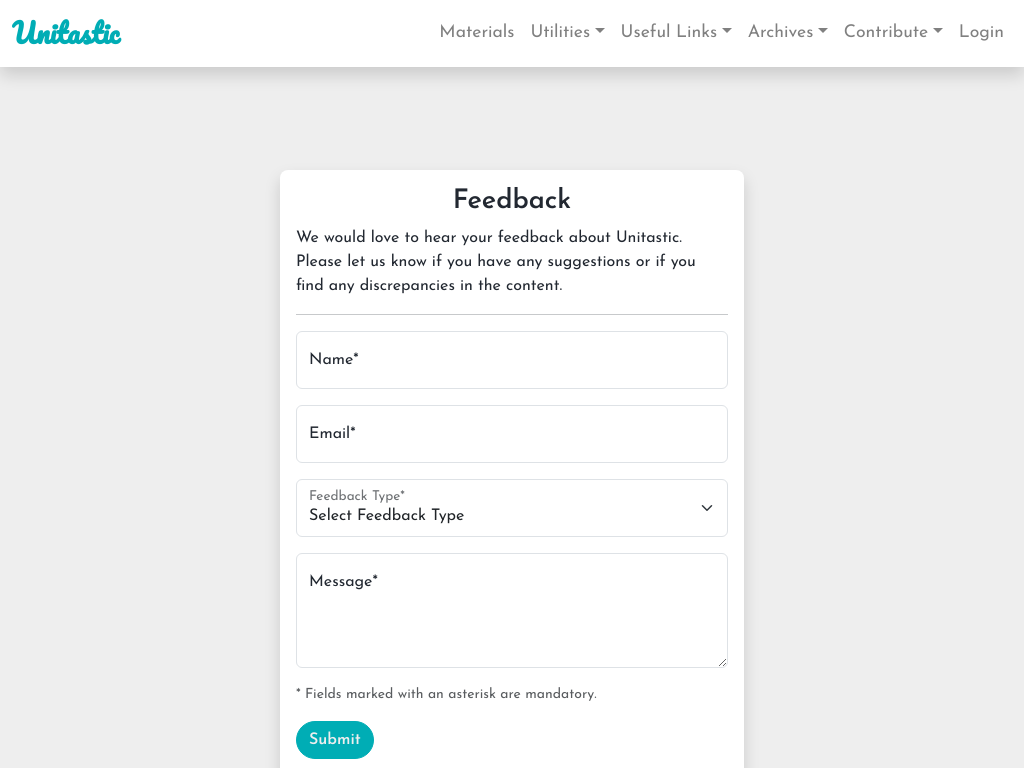
Test: FeedbackForm Component › disables submit button while submitting
// Fill out the form
Type "Jane Doe" into the field labelled "Name*" at (512, 360), box top-left (296, 331), bottom-right (728, 389)
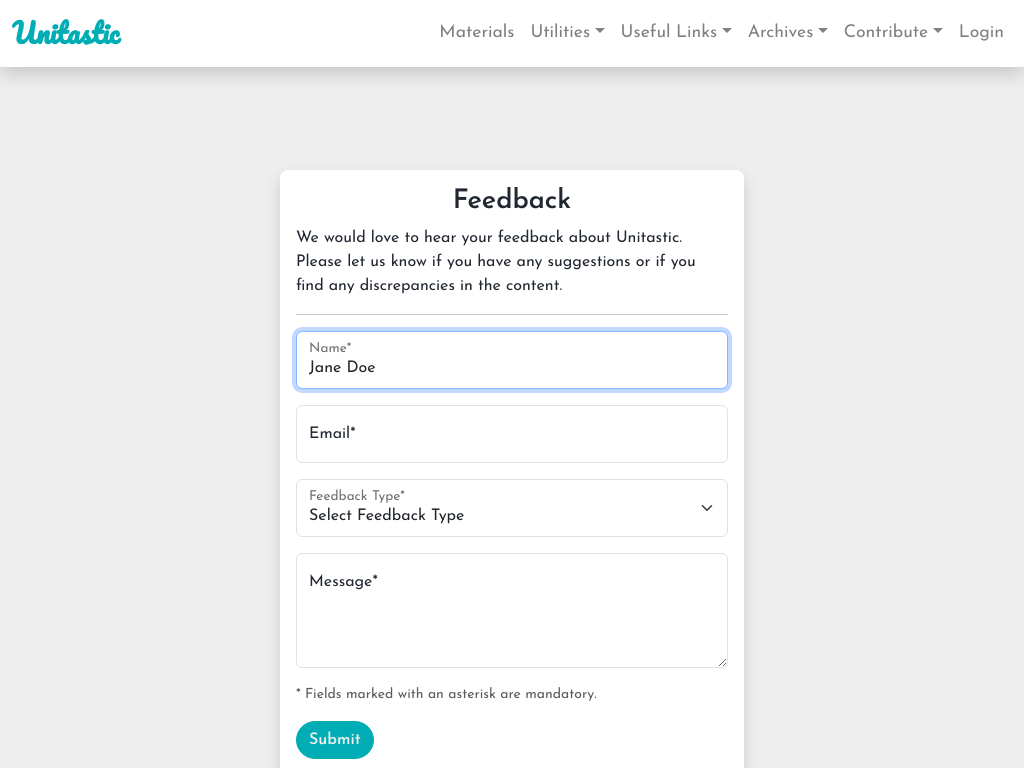
Type "jane@example.com" into the field labelled "Email*" at (512, 434), box top-left (296, 405), bottom-right (728, 463)
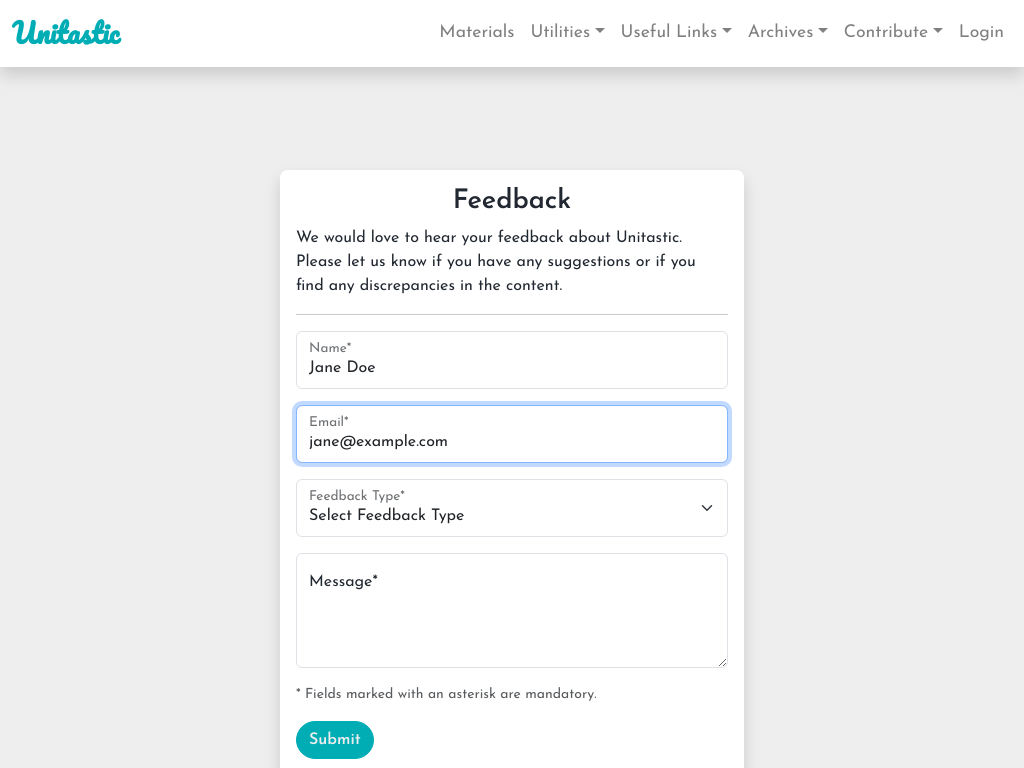
Select "Suggestion" in the dropdown labelled "Feedback Type*" at (512, 508), box top-left (296, 479), bottom-right (728, 537)
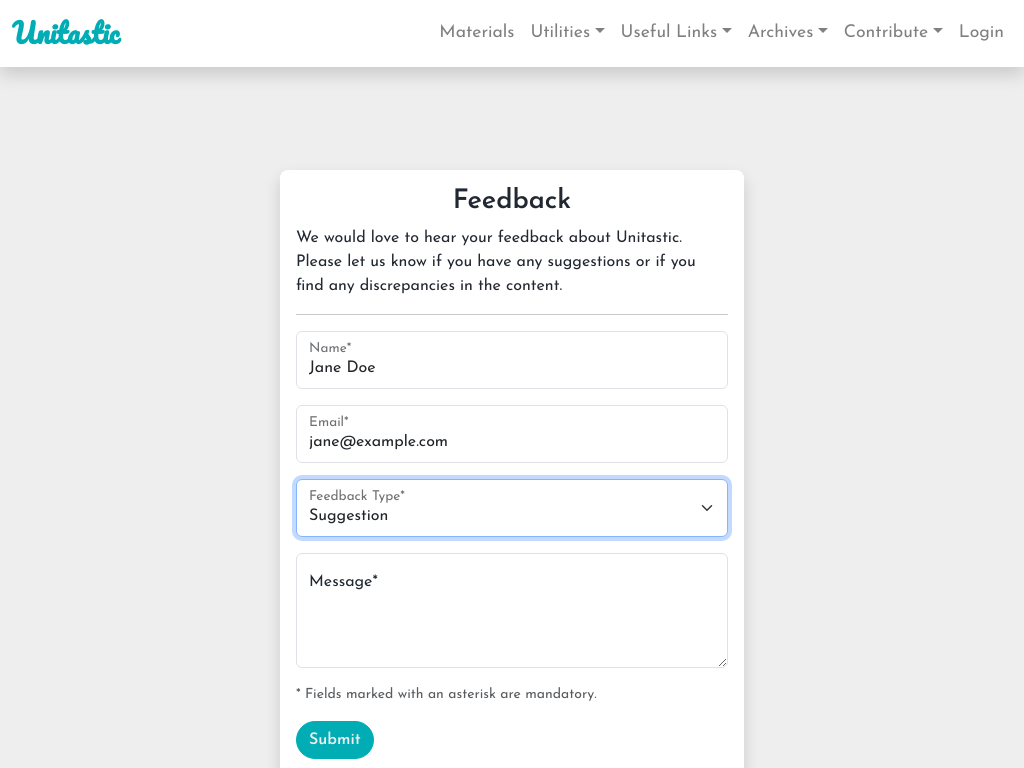
Type "Great website!" into the text box labelled "Message*" at (512, 610), box top-left (296, 553), bottom-right (728, 668)
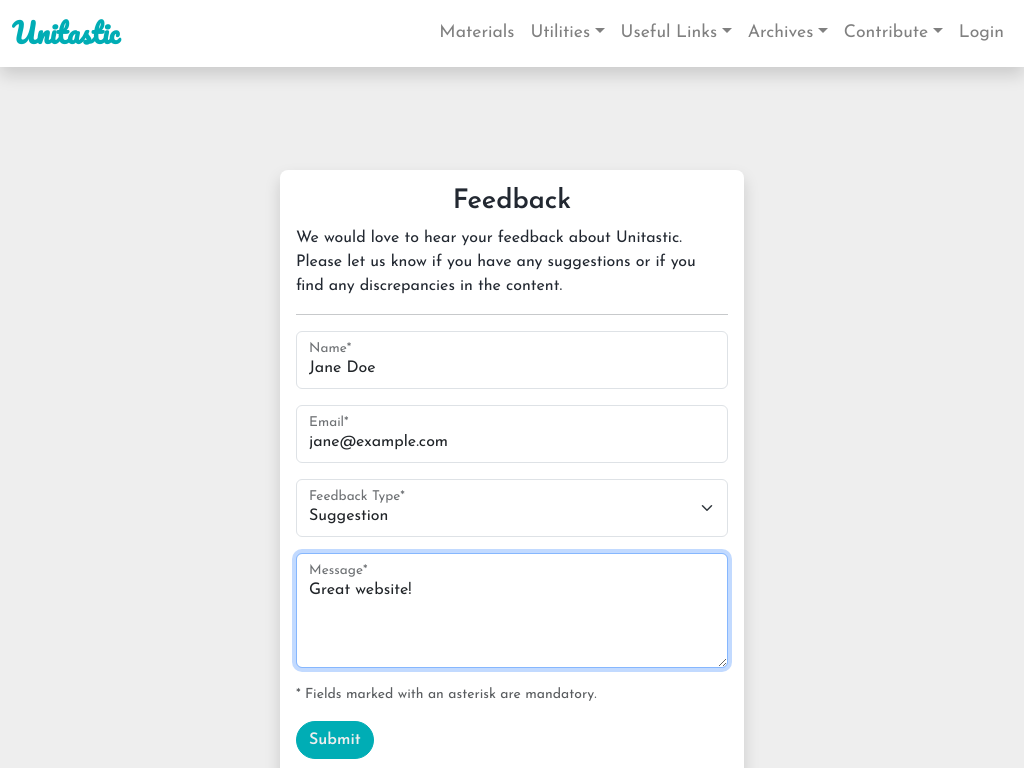
Click the button "Submit" at (335, 740), box top-left (296, 721), bottom-right (374, 759)
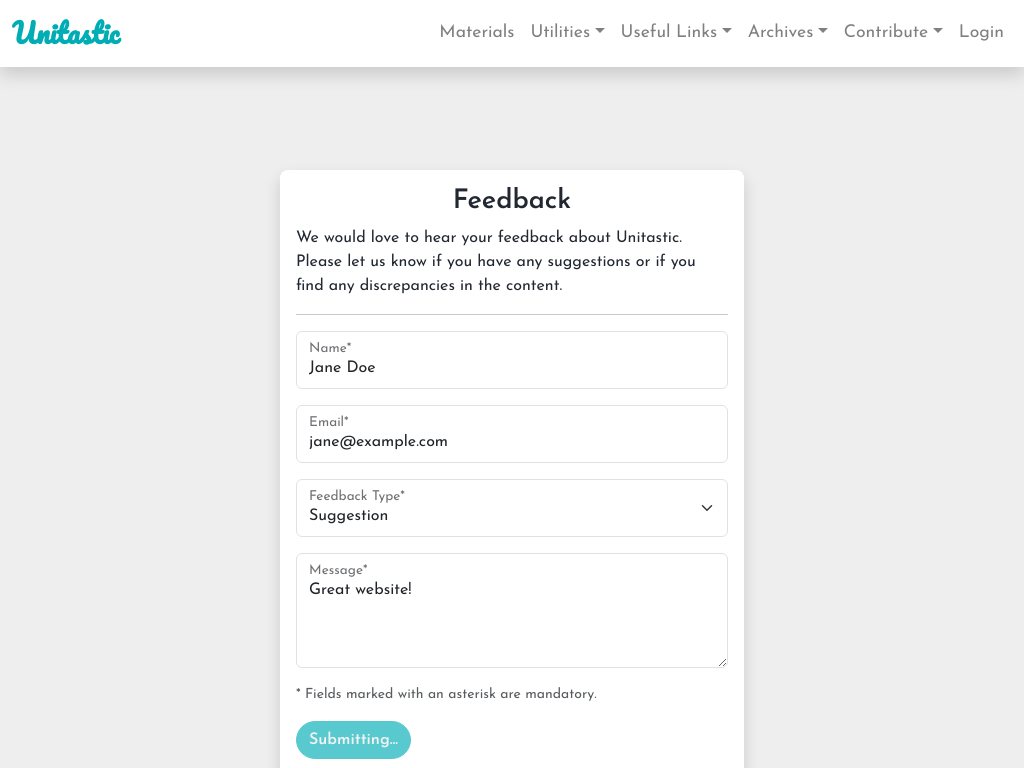
Now the button "Submitting..." is disabled, box top-left (296, 721), bottom-right (411, 759)
